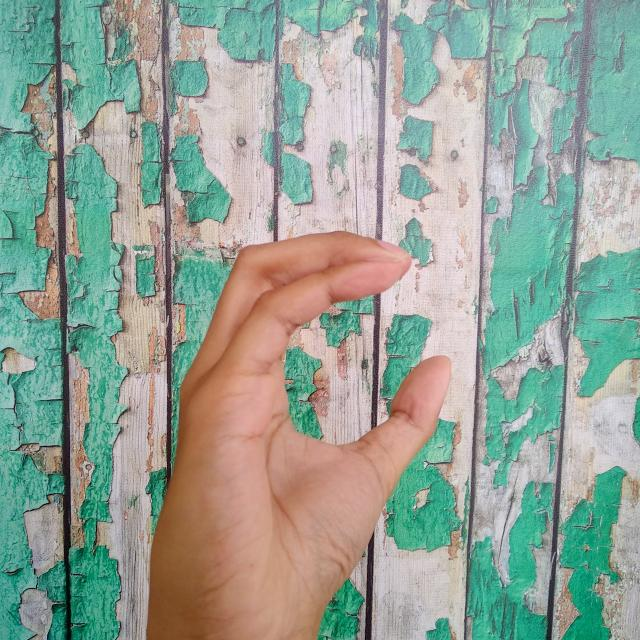C: (142, 224, 452, 640)
